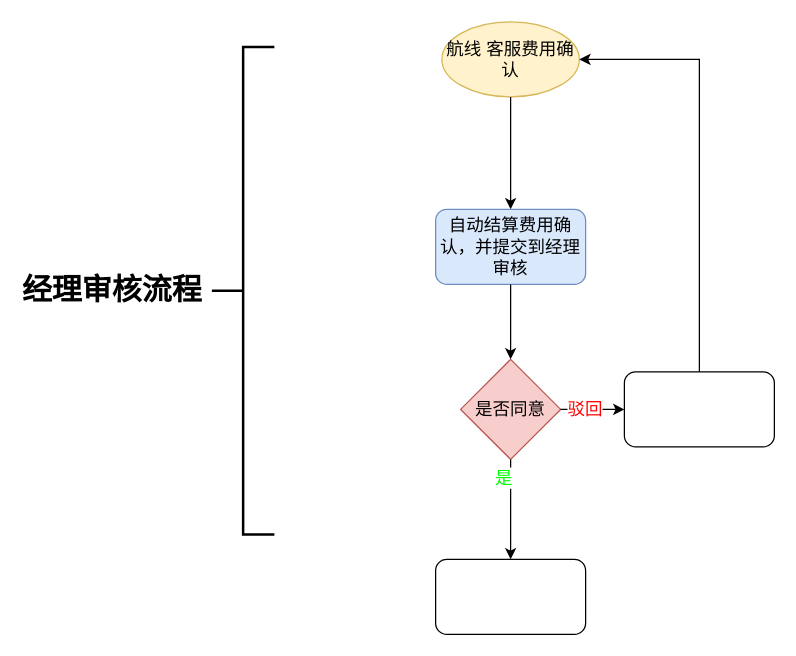
Some shapes in this 796 by 656 pixel diagram are drawn without their labels. Here are the shapes that lost their labels. From the top down, the centre of each, then its label:
At (x=698, y=409): "直接驳回到客服".
At (x=510, y=596): "开始对账".
